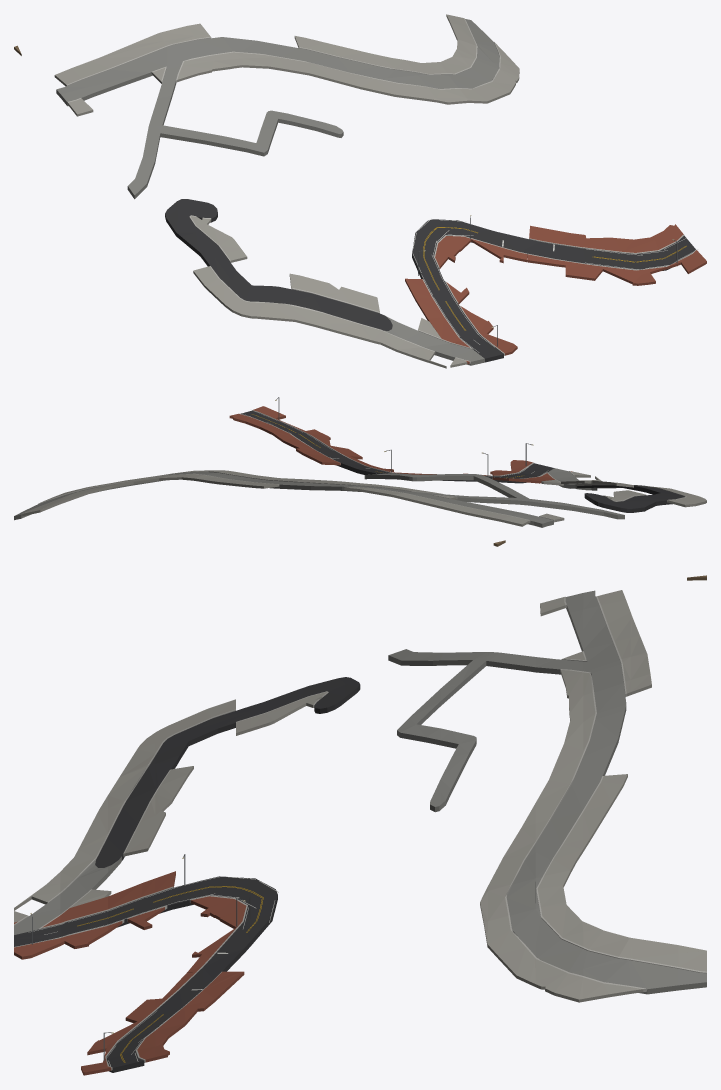
3 renders of one model, top to bottom at view 1: azimuth 30°, elevation 25°; view 2: azimuth 150°, elevation 25°; view 3: azimuth 270°, elevation 25°, orthographic. The views are drawn at different scales.
Bounding box in the file's own units: 147 × 53.75 × 146.
